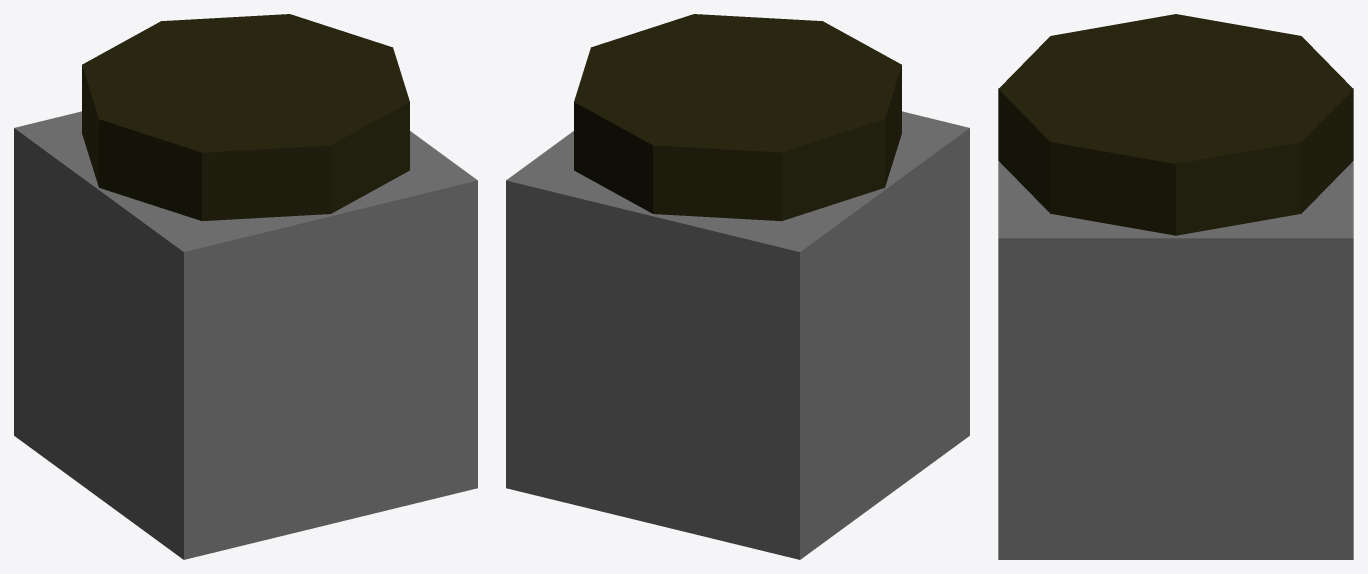
The model's file is jar.obj.
3 renders of one model, left to right at view 1: azimuth 30°, elevation 25°; view 2: azimuth 150°, elevation 25°; view 3: azimuth 270°, elevation 25°, orthographic. The views are drawn at different scales.
Parts seen in each view (by area): view 1: Cube, Cylinder; view 2: Cube, Cylinder; view 3: Cube, Cylinder.
Boxes of the visible parts, x1,y1,x2,y2 form: Cube: [14, 111, 477, 559]; Cylinder: [82, 14, 409, 221]; Cube: [506, 111, 969, 559]; Cylinder: [574, 14, 901, 221]; Cube: [998, 88, 1353, 559]; Cylinder: [998, 14, 1353, 235].
Bounding box in the file's own units: 2 × 2.46 × 2.
